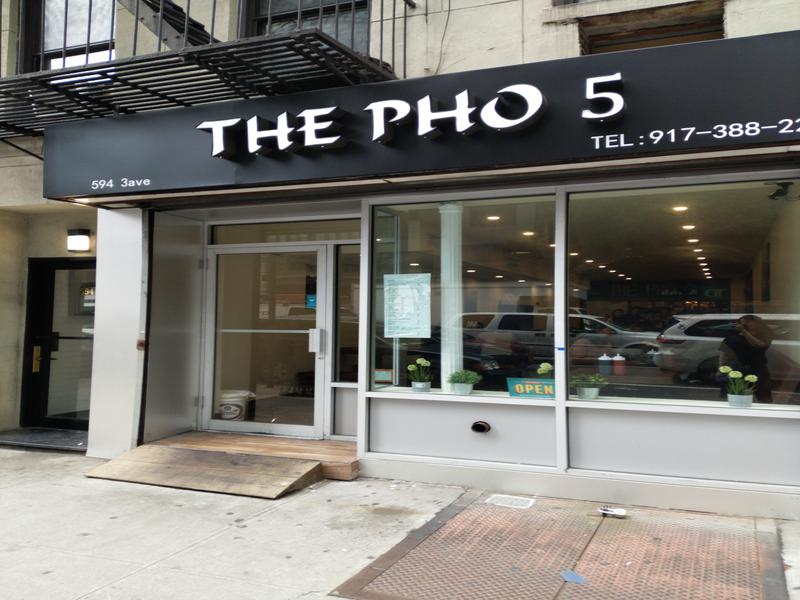door: (204, 241, 330, 445)
